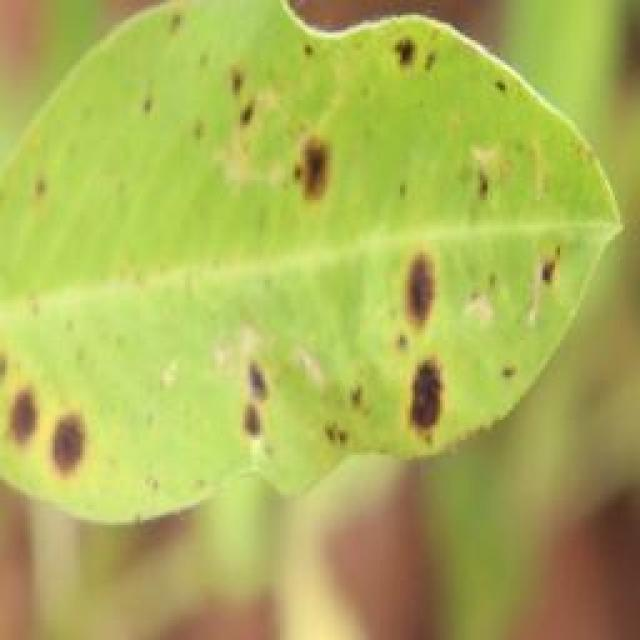Yellowish: (1, 4, 578, 527)
